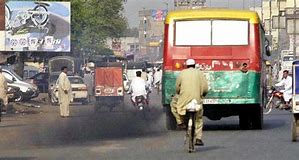smoke: (18, 101, 162, 146)
